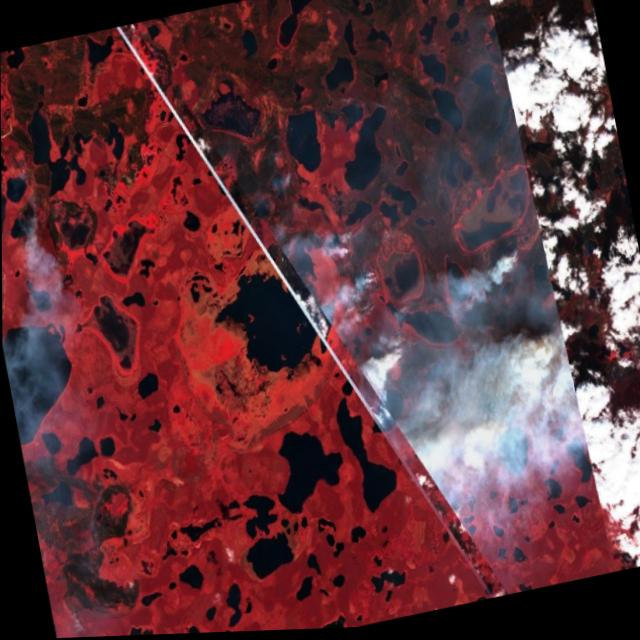fire: (290, 178, 609, 588), (1, 134, 69, 268)
